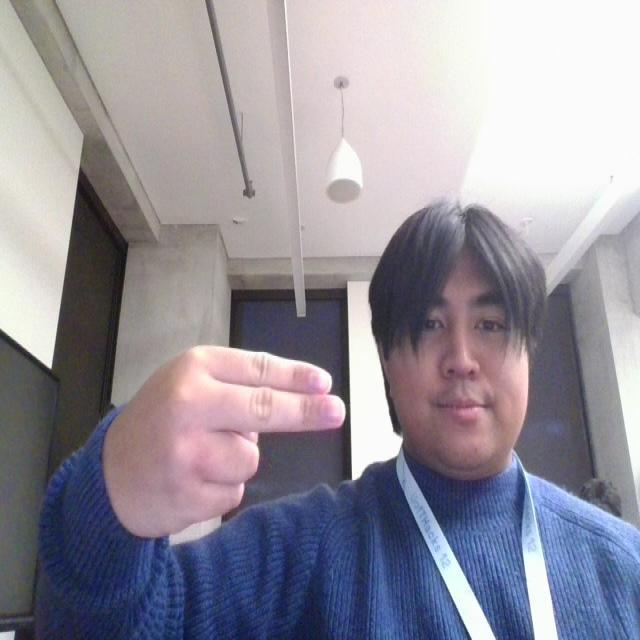Hsign: (106, 341, 349, 540)
